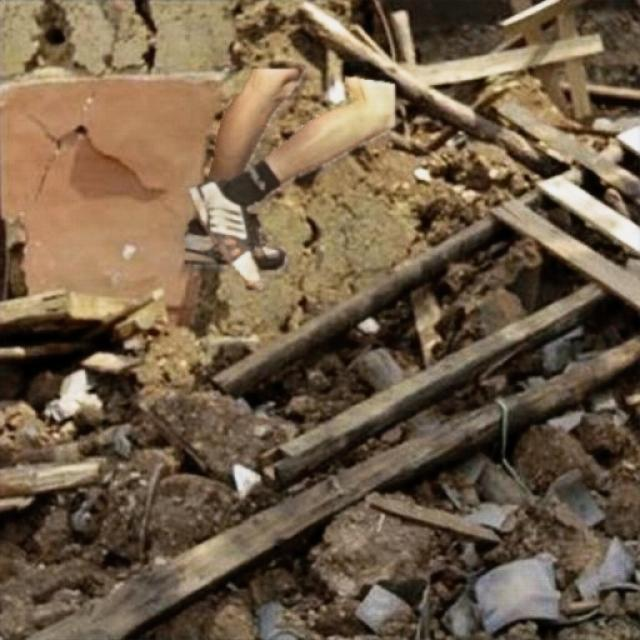Person in Rubble: (185, 69, 394, 290)
